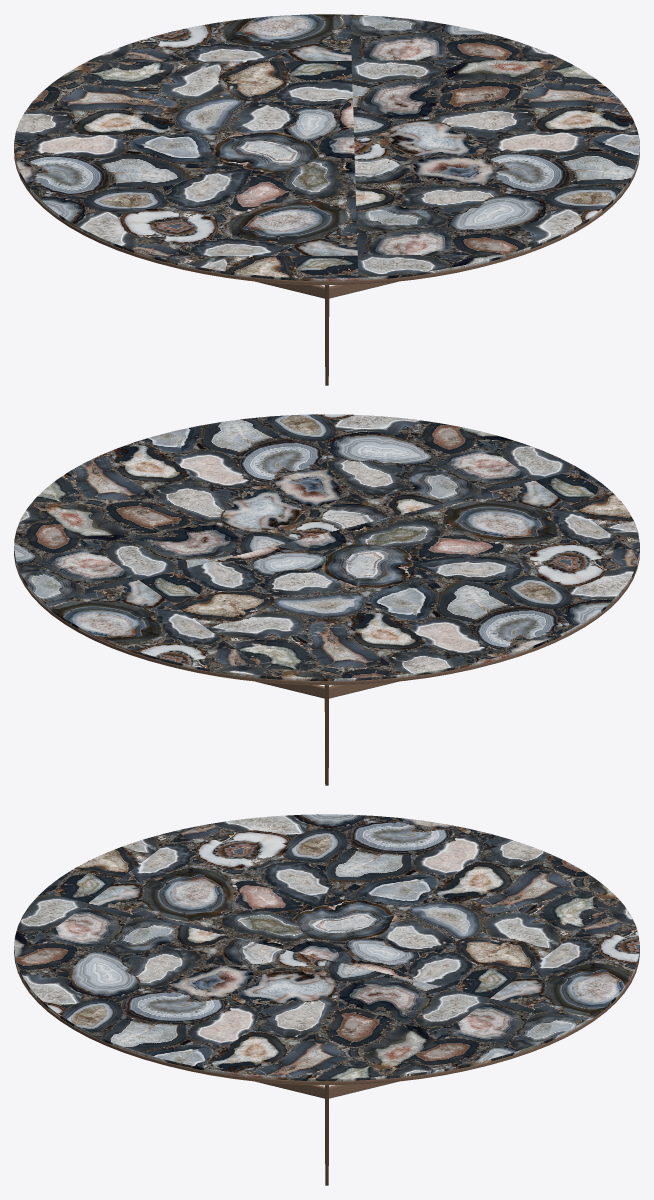
Rendered from SBH_Curiosity_CT.glb.
The picture shows the model from 3 angles, top to bottom: view 1: azimuth 30°, elevation 25°; view 2: azimuth 150°, elevation 25°; view 3: azimuth 270°, elevation 25°; orthographic projection.
Visible parts, largest first — view 1: Curiosity_CT; view 2: Curiosity_CT; view 3: Curiosity_CT.
Part boxes in pixels (bbox=[...]): Curiosity_CT: bbox=[14, 14, 639, 385]; Curiosity_CT: bbox=[14, 414, 639, 785]; Curiosity_CT: bbox=[14, 814, 639, 1185].
Size of the model in its own units: 1.2 by 0.3209 by 1.2.
Materials: 2 (1 with a texture image).
